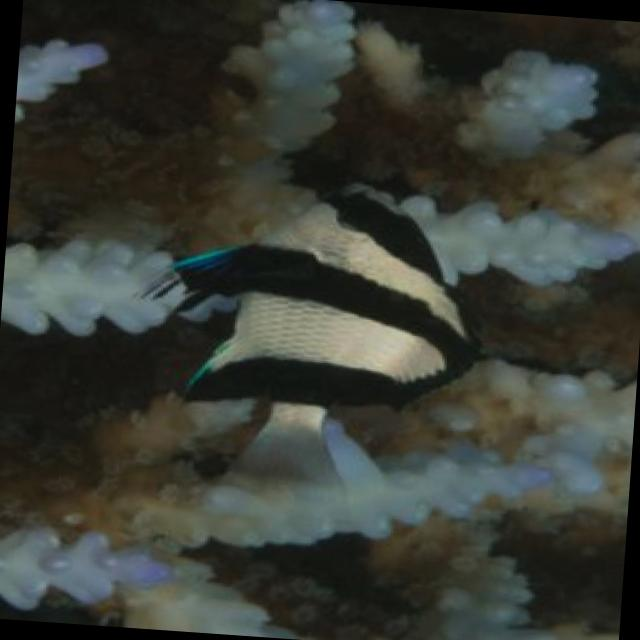ThreeStripedDamselfish: (173, 194, 478, 521)
